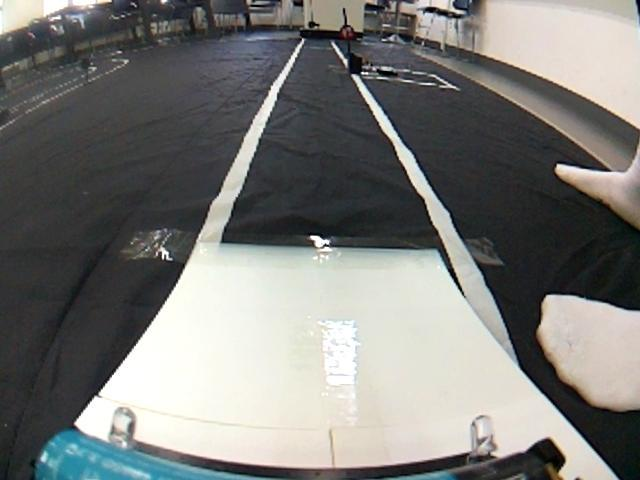hill_down: (89, 216, 527, 449)
